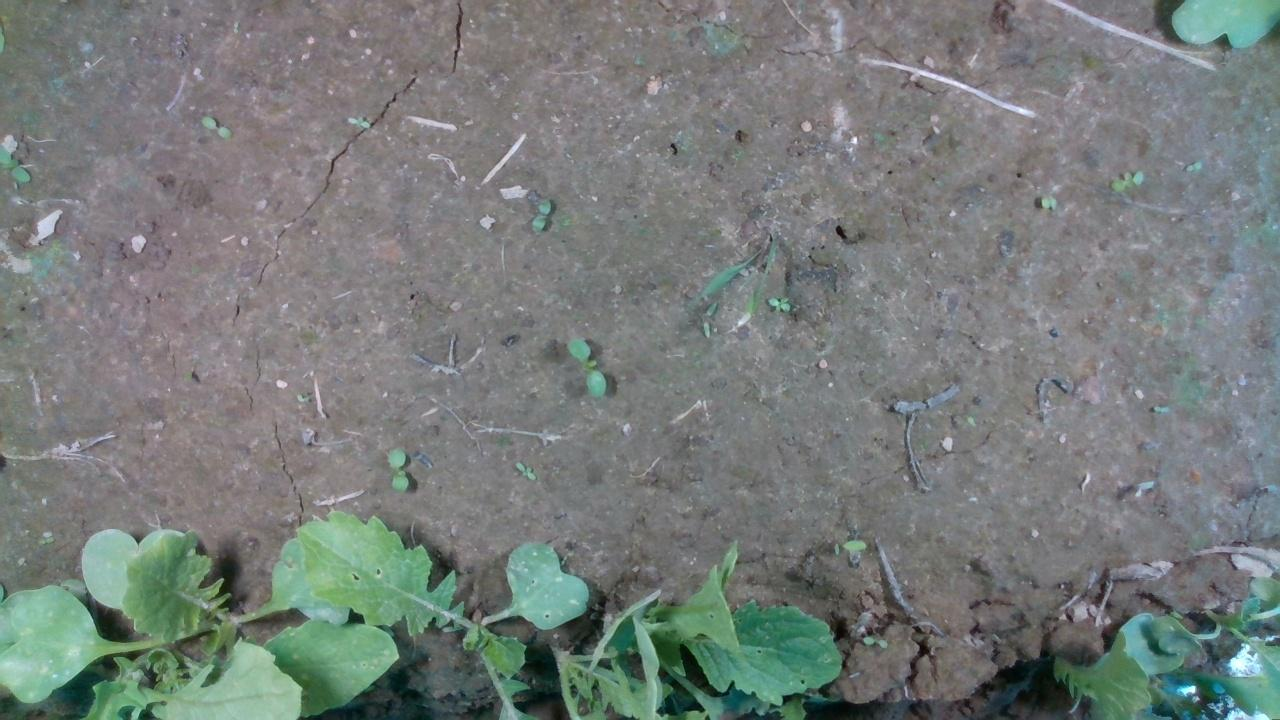weed: (565, 335, 607, 398), (383, 445, 409, 493), (1107, 168, 1144, 192), (199, 114, 233, 140), (529, 196, 551, 233), (701, 300, 718, 338), (766, 293, 794, 314), (513, 459, 536, 481), (345, 112, 371, 128), (1184, 159, 1204, 176), (1037, 194, 1058, 209)
